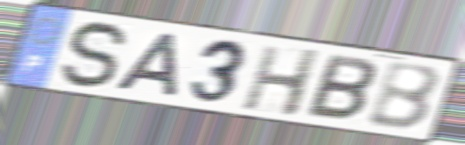3: (186, 36, 251, 107)
A: (109, 30, 181, 100)
B: (365, 61, 444, 133), (302, 52, 379, 124)
H: (238, 44, 324, 120)
S: (57, 20, 131, 92)
